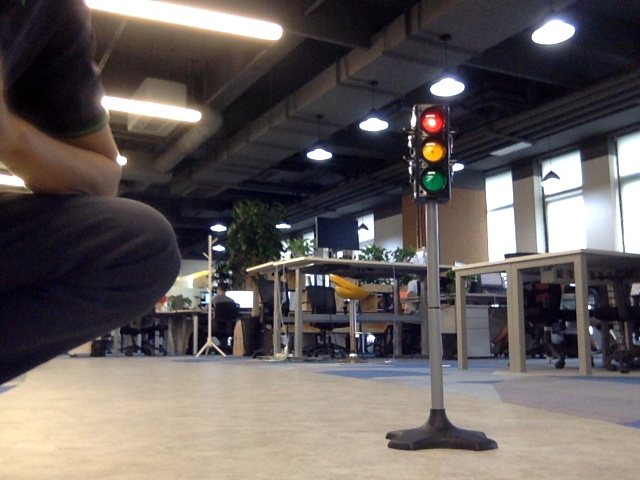red: (413, 110, 451, 197)
